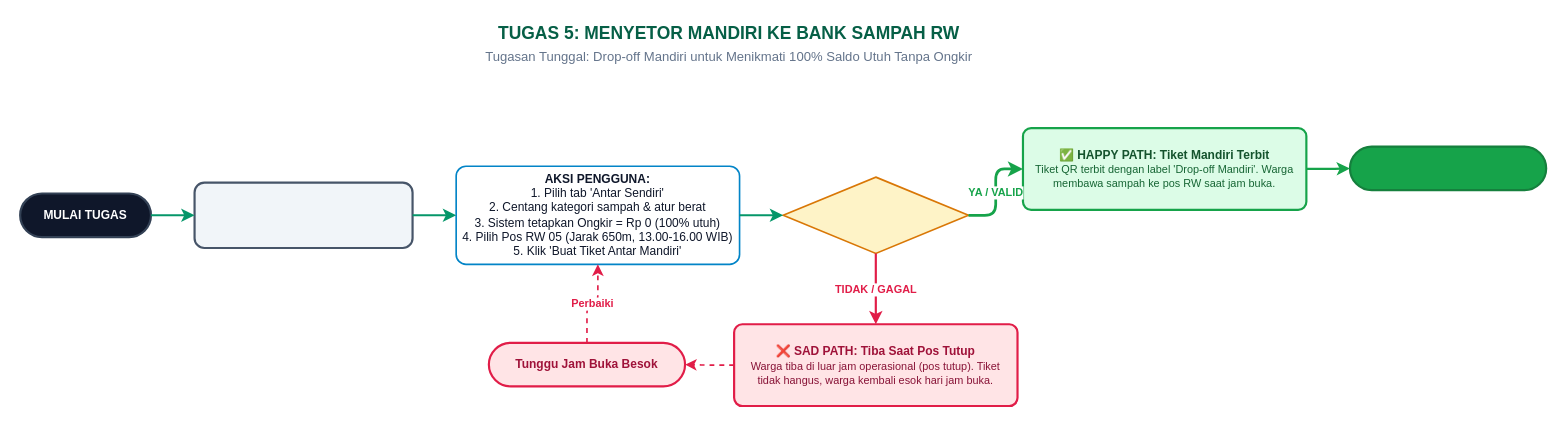
Image size: 1565x425. Some labels were removed from this diagram. Here are the shapes that lost their labels. From the top down, the centre of each, then its label:
At point 1447,168: "Timbang di Pos Bank Sampah".
At point 303,215: "LAYAR: Tab 'Setor' ➔ Opsi 'Antar Sendiri (Drop-off)'".
At point 875,215: "Kategori Terpilih & Tiket Terbit?".
